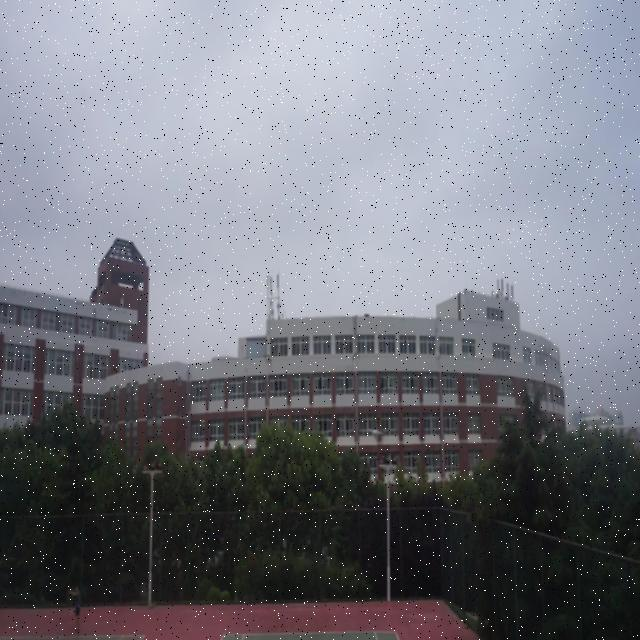UAV: (368, 428, 384, 441)
